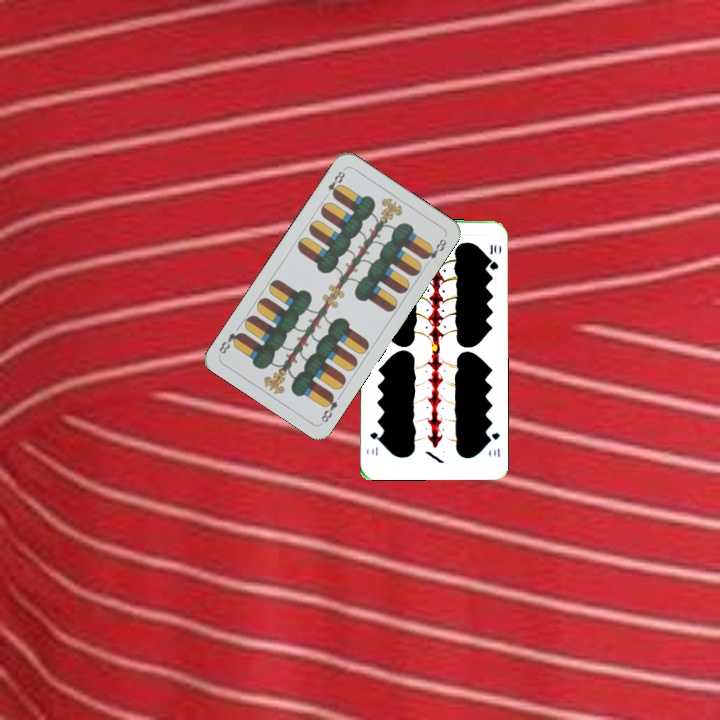E8: (324, 165, 348, 200), (317, 389, 340, 425)
G10: (484, 428, 502, 460)
